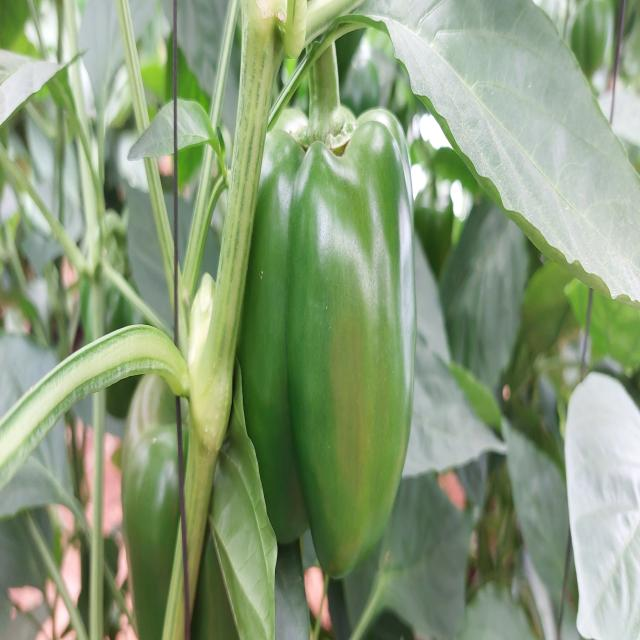Green--Not-ready-to-harvest: (237, 103, 417, 577), (124, 365, 274, 640)
